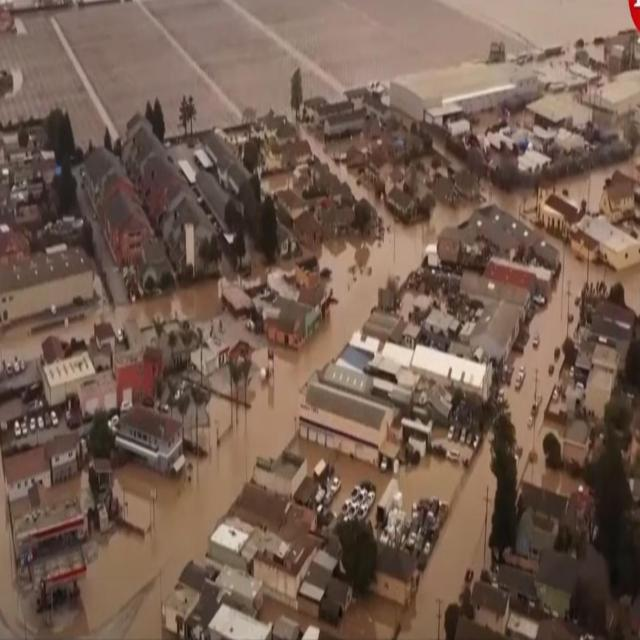flood: (0, 203, 470, 639), (0, 0, 631, 145), (248, 204, 469, 474), (507, 245, 587, 493), (400, 436, 496, 639), (54, 278, 221, 342), (120, 495, 219, 586), (535, 245, 587, 398), (310, 130, 384, 214), (592, 263, 640, 311), (0, 498, 18, 619), (561, 168, 611, 210), (0, 324, 50, 358), (483, 180, 526, 214), (219, 451, 244, 497)
house: (123, 114, 222, 282), (206, 478, 322, 612), (83, 146, 172, 296), (390, 64, 538, 138), (302, 376, 396, 475), (10, 497, 92, 601), (116, 399, 188, 482), (412, 340, 489, 412), (195, 152, 241, 248), (474, 298, 527, 368), (265, 290, 322, 354), (40, 348, 96, 412), (533, 547, 581, 619), (3, 443, 51, 506), (470, 576, 512, 636), (591, 301, 638, 345), (539, 191, 578, 240), (51, 432, 82, 484), (387, 182, 418, 228), (602, 179, 635, 222), (563, 418, 591, 467), (324, 105, 364, 136), (194, 339, 229, 374), (438, 224, 461, 264), (278, 187, 304, 216), (297, 212, 321, 242), (276, 120, 296, 145), (368, 150, 380, 182), (264, 117, 280, 138)
